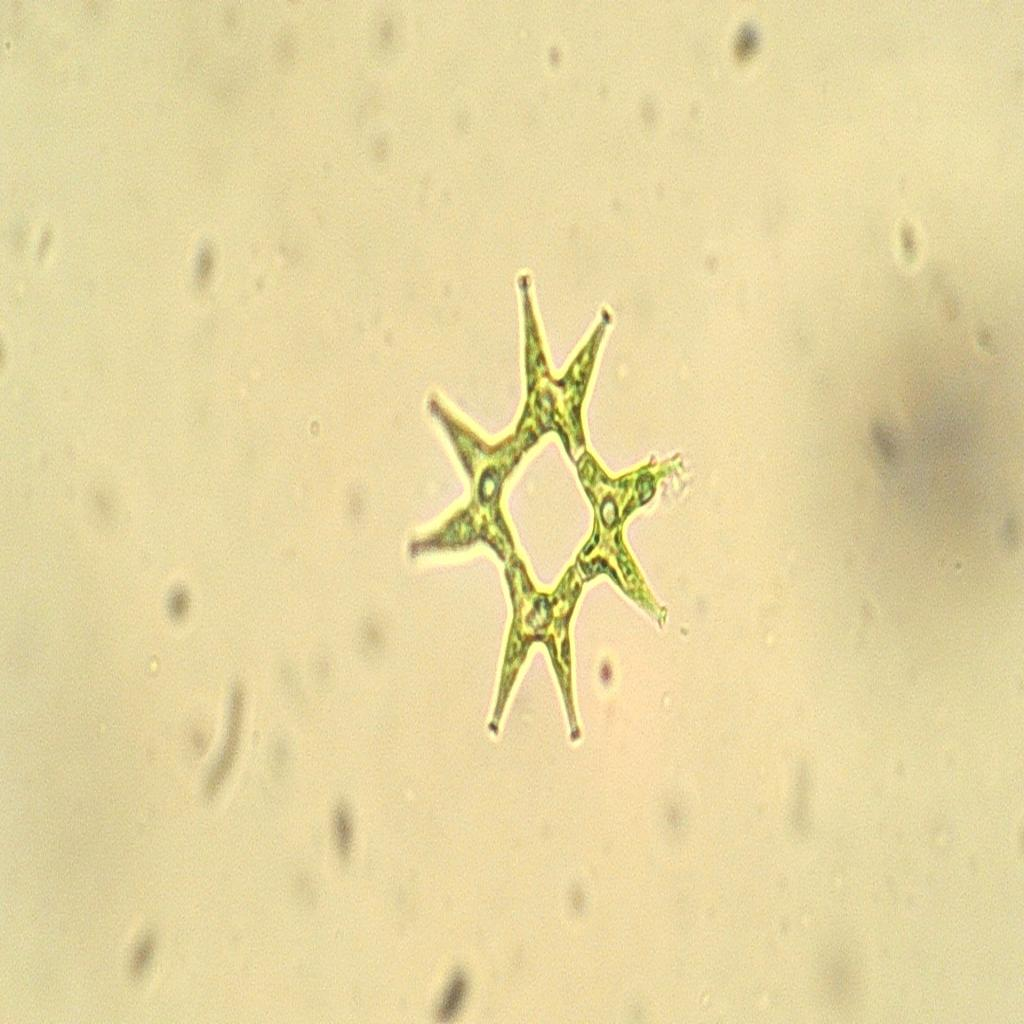Pediastrum_75O: (397, 258, 697, 760)
